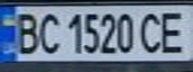0: (115, 10, 139, 55)
1: (63, 10, 84, 54)
2: (100, 9, 121, 55)
5: (78, 9, 103, 55)
B: (9, 9, 42, 55)
C: (136, 9, 166, 55), (33, 10, 63, 55)
E: (154, 7, 190, 55)
